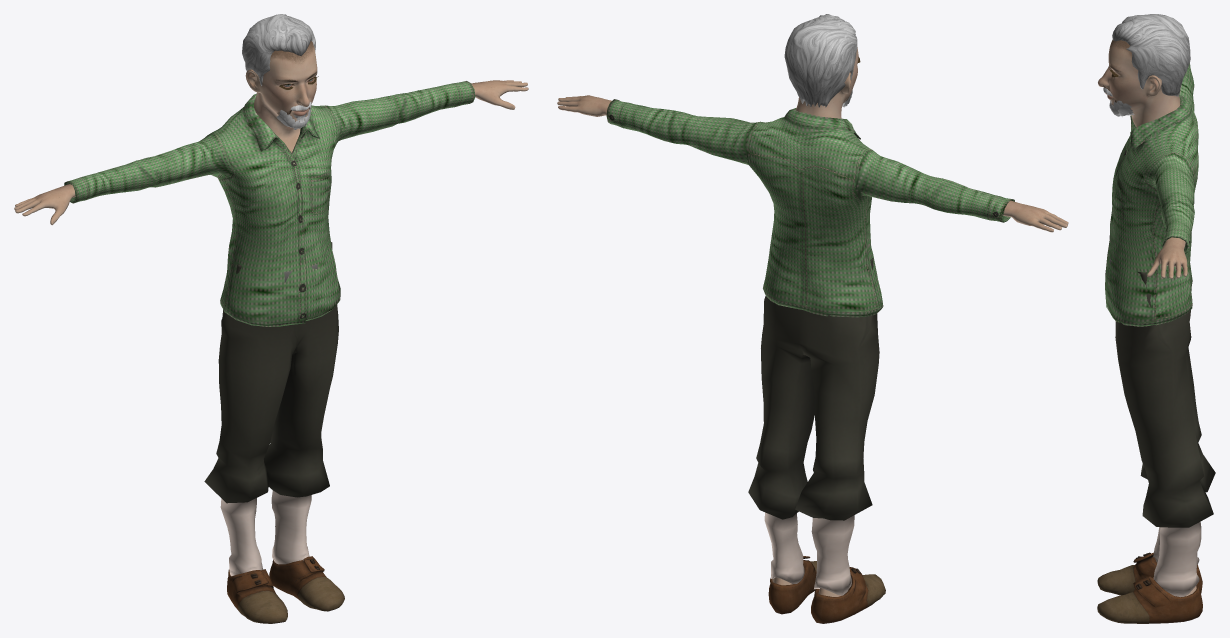
File: dost3.obj
The picture shows the model from 3 angles, left to right: view 1: azimuth 30°, elevation 25°; view 2: azimuth 150°, elevation 25°; view 3: azimuth 270°, elevation 25°; orthographic projection.
Visible parts, largest first — view 1: Tops, Bottoms, Body, Shoes, Hair; view 2: Tops, Bottoms, Hair, Shoes, Body; view 3: Bottoms, Tops, Shoes, Body, Hair, Beards.
Boxes of the visible parts, <box> form: Tops: <box>64,81,475,326</box>; Bottoms: <box>204,242,338,576</box>; Body: <box>14,41,528,225</box>; Shoes: <box>227,556,344,623</box>; Hair: <box>242,14,315,85</box>; Tops: <box>606,99,1014,317</box>; Bottoms: <box>748,258,879,595</box>; Hair: <box>784,14,857,107</box>; Shoes: <box>768,556,885,623</box>; Body: <box>557,47,1068,596</box>; Bottoms: <box>1109,258,1215,597</box>; Tops: <box>1105,63,1198,326</box>; Shoes: <box>1097,552,1202,623</box>; Body: <box>1098,39,1196,596</box>; Hair: <box>1112,14,1190,96</box>; Beards: <box>1109,100,1134,117</box>.
Bounding box in the file's own units: 166 × 181 × 33.06.
7 materials, 7 textured.
